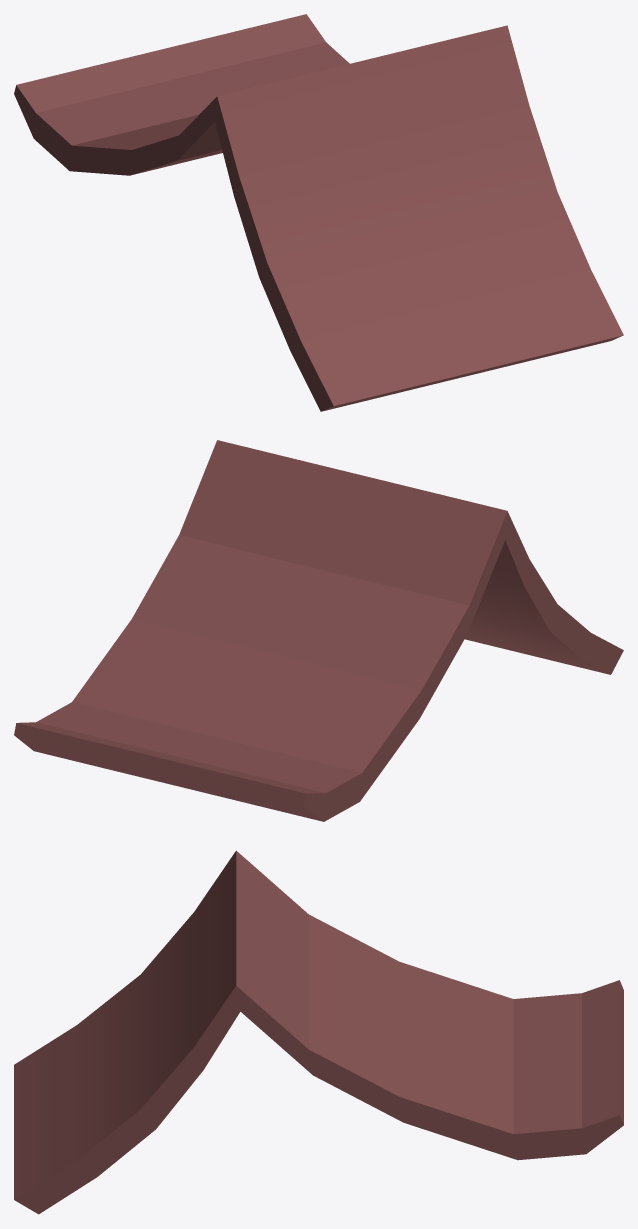
The model's file is SmallRoof.fbx.
The picture shows the model from 3 angles, top to bottom: view 1: azimuth 30°, elevation 25°; view 2: azimuth 150°, elevation 25°; view 3: azimuth 270°, elevation 25°; orthographic projection. The views are drawn at different scales.
Visible parts, largest first — view 1: pCube2; view 2: pCube2; view 3: pCube2.
Part boxes in pixels (box(x1,y1,x2,y2)): pCube2: box(14, 14, 623, 411); pCube2: box(14, 440, 623, 821); pCube2: box(14, 850, 623, 1214).
Bounding box in the file's own units: 0.1505 × 0.1189 × 0.2871.
